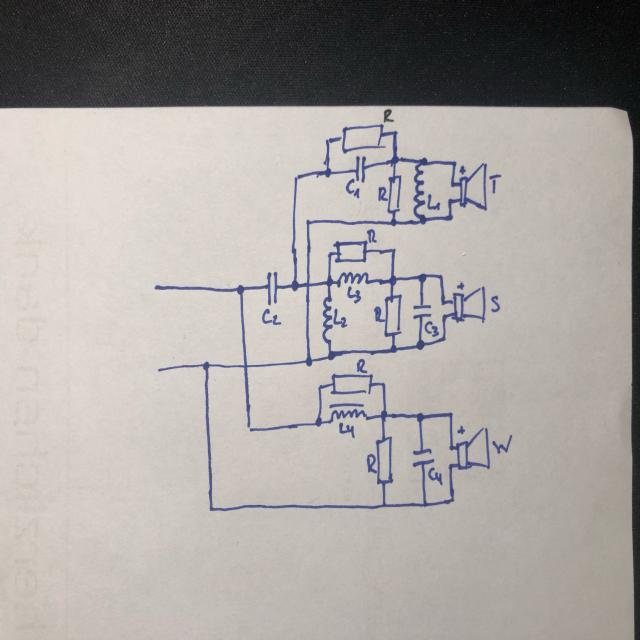capacitor: (264, 270, 279, 306), (411, 446, 435, 466), (355, 155, 367, 184), (412, 302, 432, 318)
crossover: (238, 358, 252, 374), (301, 277, 313, 294)
inductor: (328, 401, 368, 423), (413, 162, 427, 218), (335, 269, 370, 287), (320, 294, 332, 346)
junction: (242, 418, 255, 435), (205, 499, 218, 516), (200, 358, 212, 376), (234, 282, 247, 298), (313, 415, 324, 430), (448, 491, 459, 505), (378, 407, 389, 421), (378, 377, 389, 391), (315, 380, 326, 394), (414, 338, 426, 350), (378, 499, 389, 512), (415, 409, 426, 422), (420, 496, 430, 510), (304, 354, 314, 368), (326, 347, 336, 361), (418, 212, 428, 226), (387, 273, 398, 285), (290, 279, 300, 292), (438, 333, 449, 344), (325, 248, 335, 260), (417, 271, 427, 282), (305, 217, 315, 228), (323, 166, 333, 177), (388, 244, 397, 256), (292, 170, 301, 182), (325, 276, 335, 286), (323, 136, 333, 146), (391, 128, 400, 139), (449, 156, 458, 167), (446, 409, 454, 421), (389, 216, 397, 228), (420, 156, 428, 168), (437, 272, 446, 282), (448, 178, 457, 188), (440, 311, 448, 322), (390, 344, 398, 354), (440, 294, 448, 304), (446, 195, 454, 205), (446, 212, 454, 222), (392, 153, 399, 164), (448, 441, 455, 452), (447, 461, 454, 472)
resistor: (341, 123, 384, 154), (330, 372, 373, 396), (375, 434, 393, 485), (333, 239, 369, 263), (384, 293, 402, 337), (387, 173, 401, 214)
terminal: (152, 284, 163, 292), (155, 366, 164, 374)
text: (492, 434, 512, 456), (260, 308, 282, 326), (344, 178, 360, 200), (427, 466, 443, 486), (488, 172, 502, 194), (423, 319, 439, 338), (333, 308, 347, 328), (337, 422, 354, 438), (346, 286, 361, 304), (365, 452, 377, 473), (374, 305, 386, 325), (489, 293, 500, 314), (426, 193, 439, 210), (382, 108, 394, 126), (377, 186, 388, 202), (366, 228, 377, 244), (356, 359, 368, 373)
